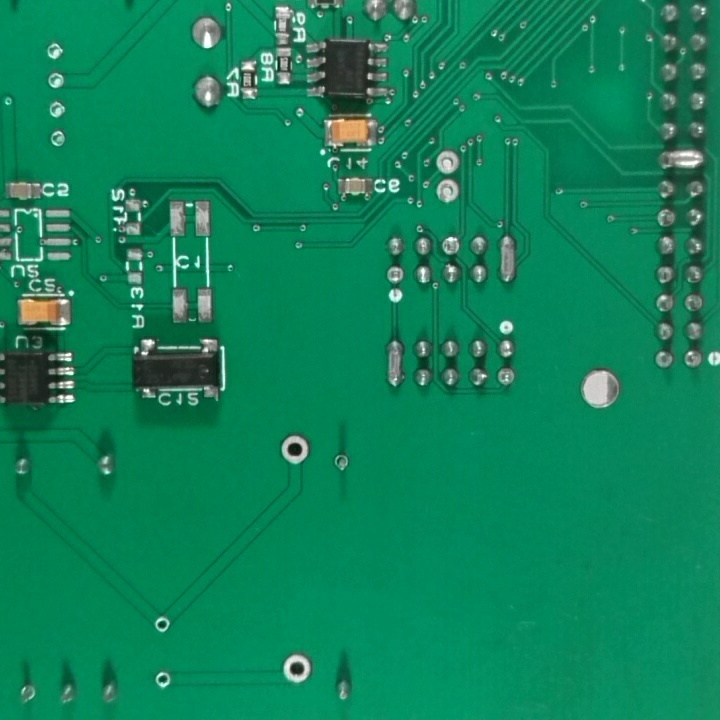F: (277, 428, 311, 468), (279, 652, 316, 686), (433, 146, 464, 175), (435, 180, 463, 205), (654, 206, 680, 232), (17, 680, 41, 708), (330, 451, 354, 477), (493, 366, 519, 389), (679, 349, 705, 372), (46, 99, 69, 123), (438, 236, 462, 259), (44, 71, 69, 92), (43, 38, 64, 62), (383, 265, 407, 286), (47, 130, 73, 149), (152, 668, 172, 691), (685, 292, 704, 315), (154, 611, 169, 636)
P: (383, 333, 407, 392), (656, 149, 710, 175), (496, 230, 520, 288)
